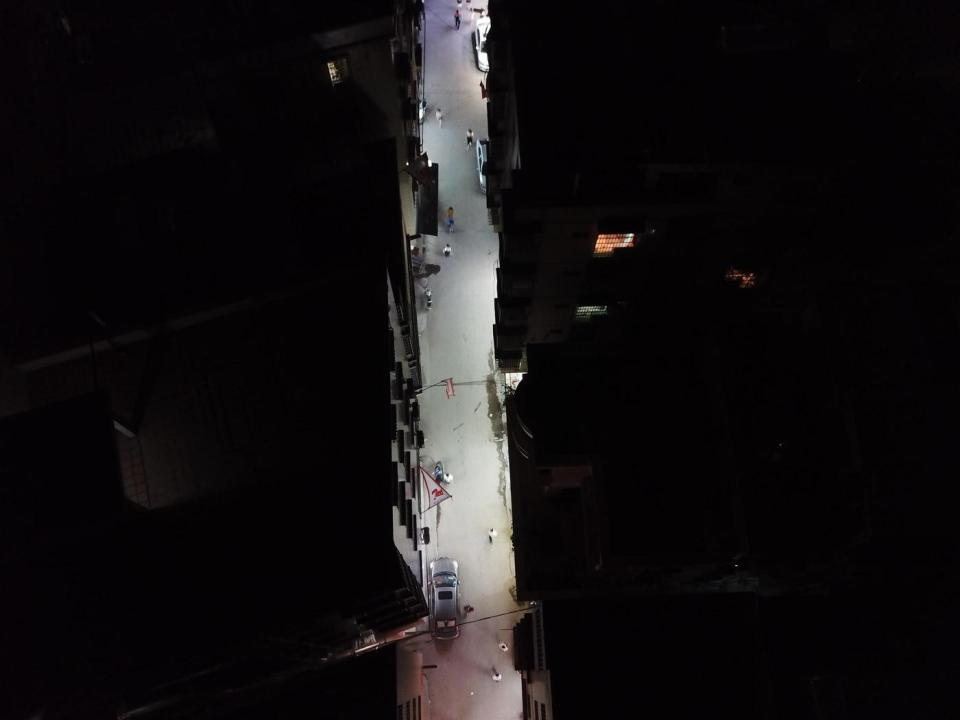car: (428, 556, 462, 641), (475, 135, 501, 194), (475, 18, 500, 72)
